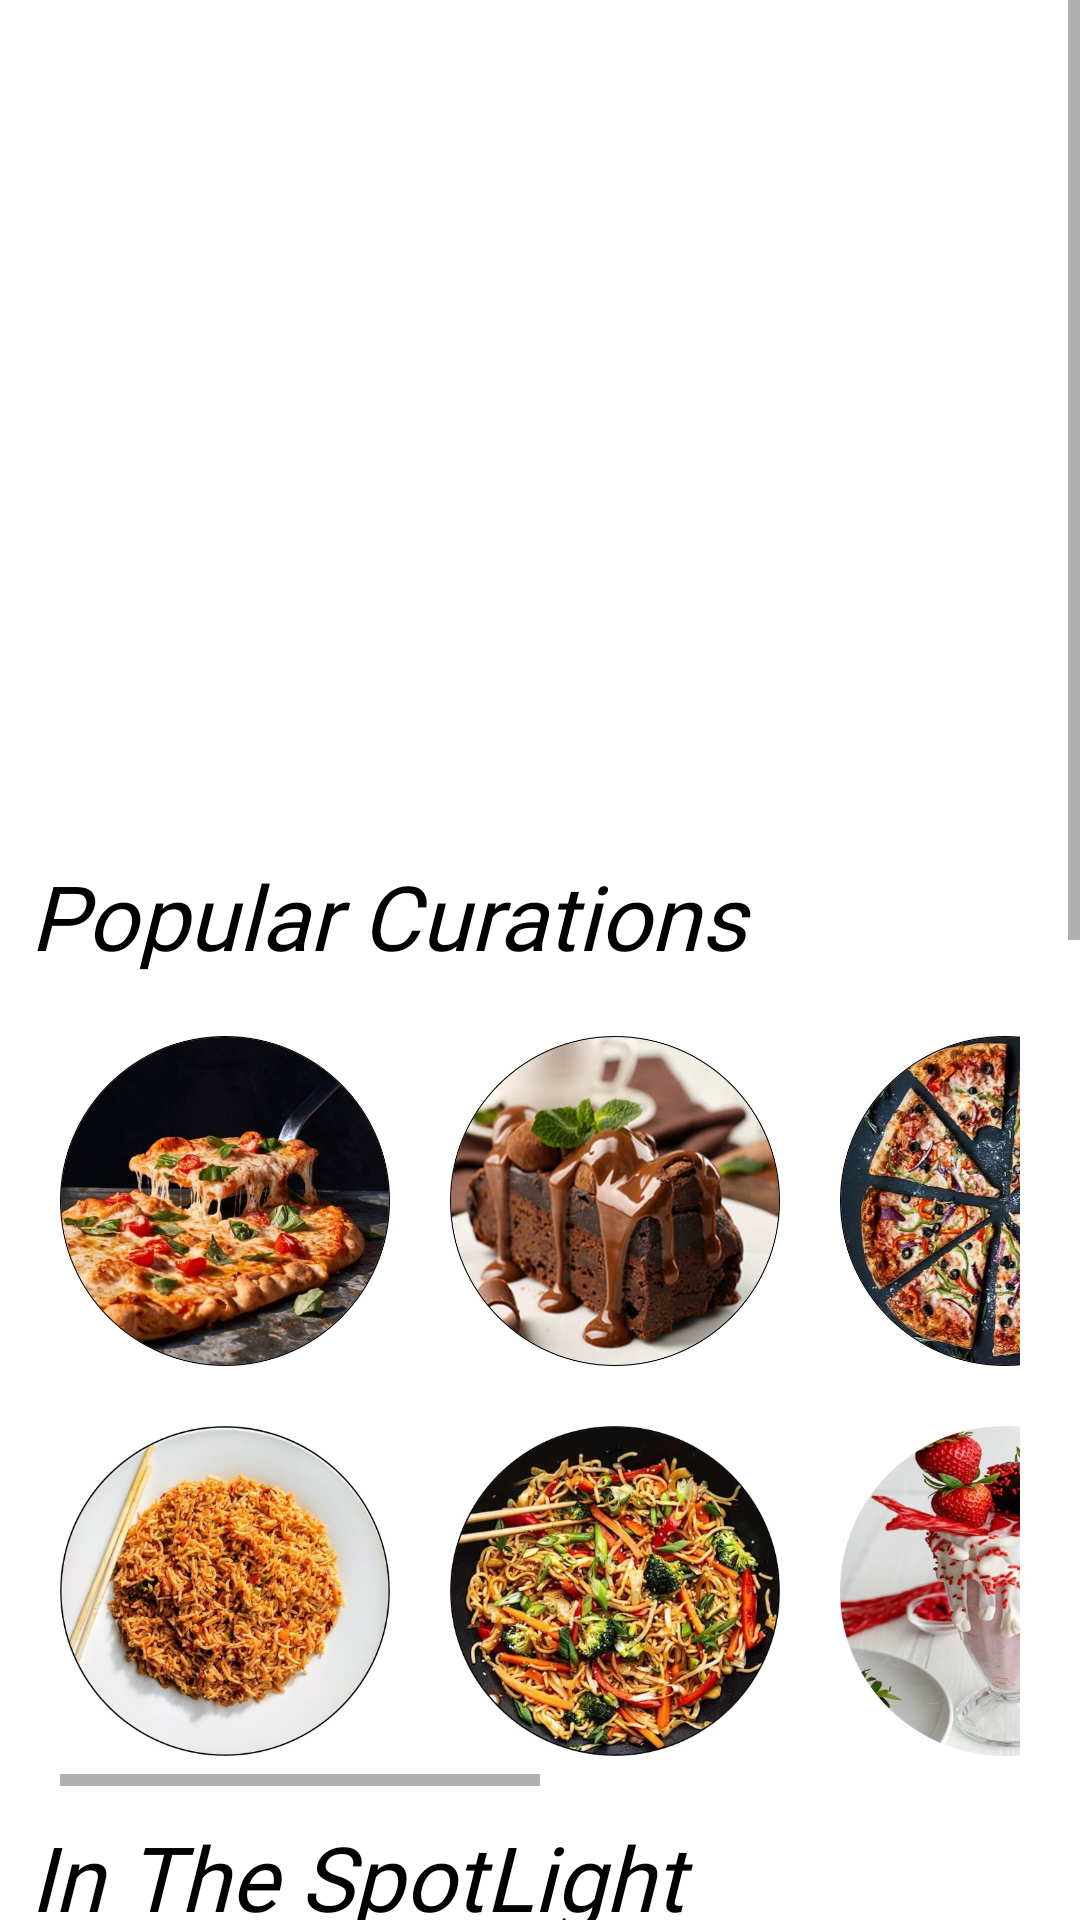

Named icons in this screenshot (1080×1920) and their bounding boxes, (x1, y1, x2, y2):
chinese: (60, 1426, 390, 1756), (450, 1426, 780, 1756)
desert: (450, 1036, 780, 1366)
